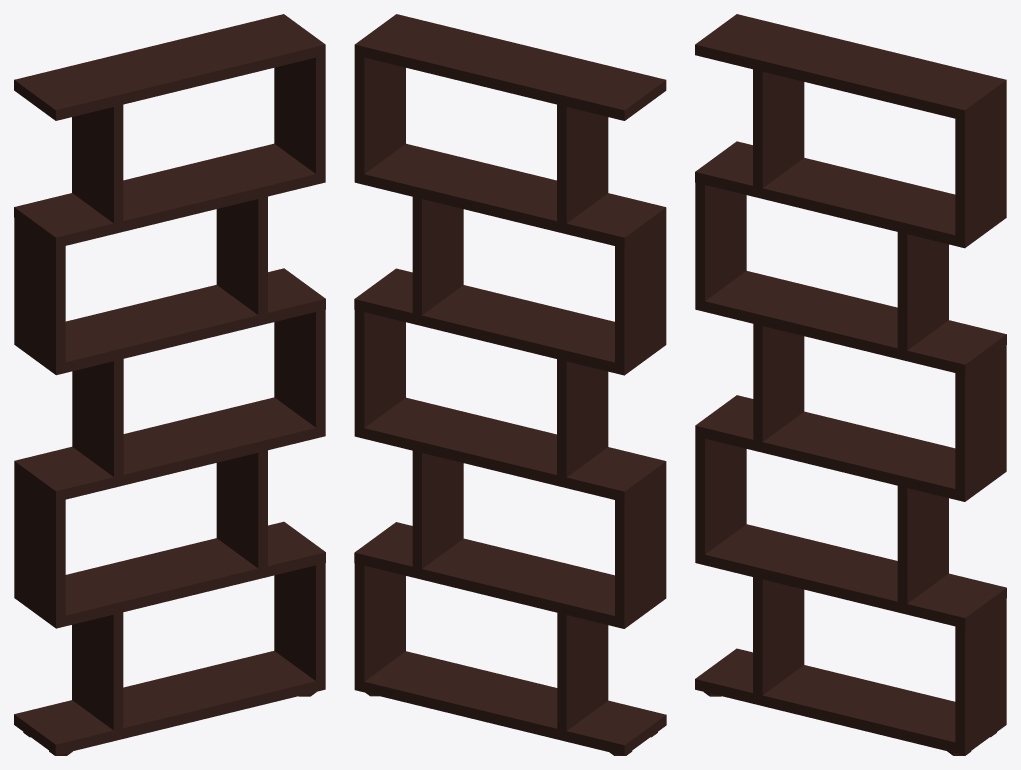
Rendered from bookshelf.glb.
3 views of the same model, side by side, from view 1: azimuth 30°, elevation 25°; view 2: azimuth 150°, elevation 25°; view 3: azimuth 330°, elevation 25° (orthographic).
Visible parts, largest first — view 1: bookshelf; view 2: bookshelf; view 3: bookshelf.
Boxes of the visible parts, x1,y1,x2,y2 form: bookshelf: (14,14,325,755); bookshelf: (354,14,666,755); bookshelf: (695,14,1006,755).
Size of the model in its own units: 0.4349 by 1 by 0.1163.
